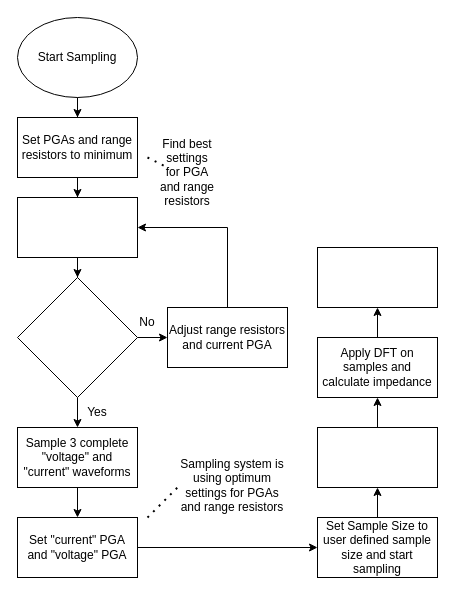
Image size: 455x595. Some labels were removed from this diagram. Each missing label, with the centre of its shape:
Are the waveforms saturated?: pixel 77 337
Calculate derived DUT parameters and display to user: pixel 377 277
Sample 3 complete "current" waveforms: pixel 77 227
Sampling is complete. MCU retrieves samples from sample control: pixel 377 457
